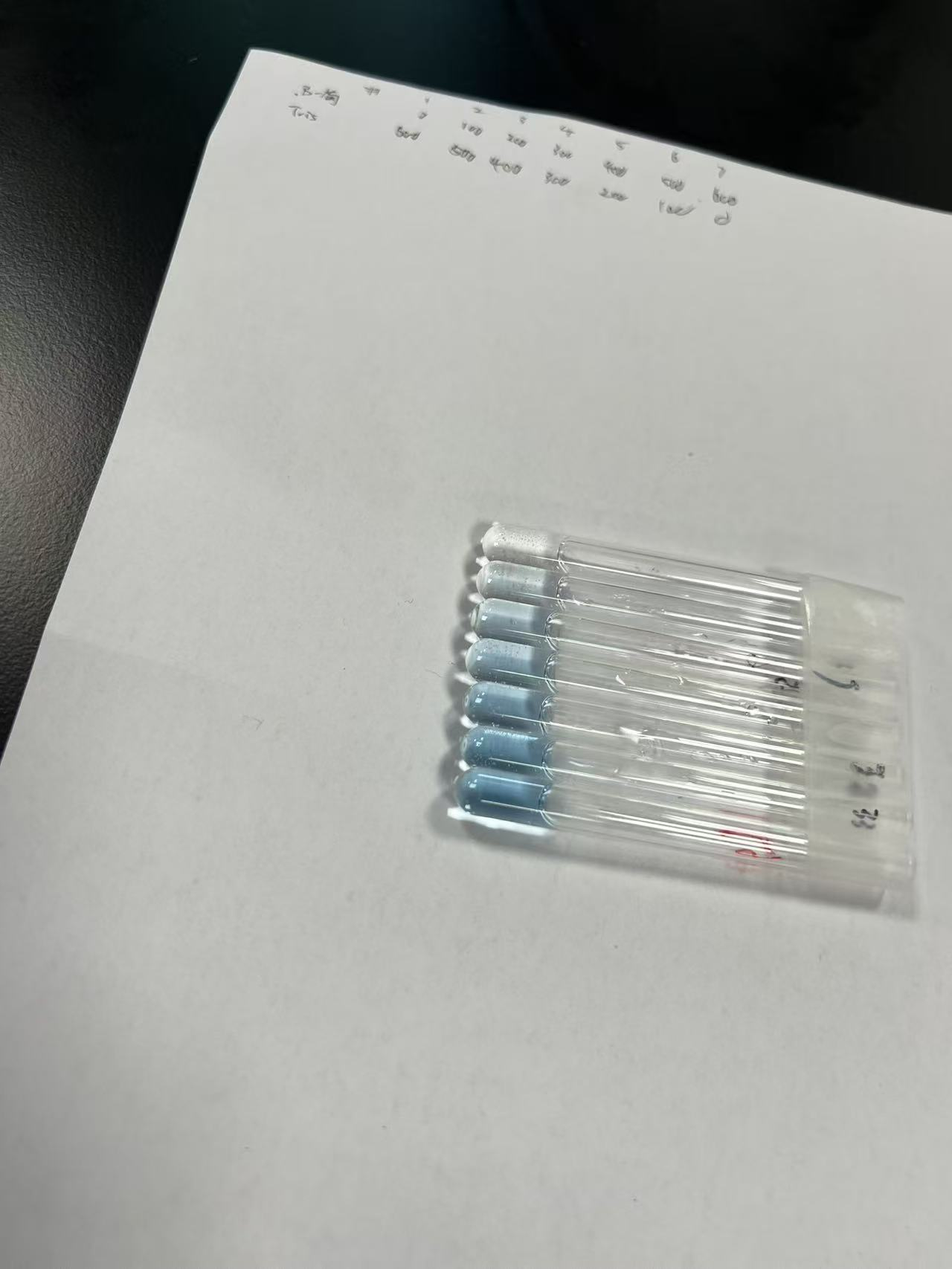drop: (454, 762, 563, 829), (455, 728, 571, 786), (465, 635, 566, 694), (460, 681, 563, 738), (476, 560, 569, 612), (472, 597, 559, 647), (481, 522, 569, 569)
